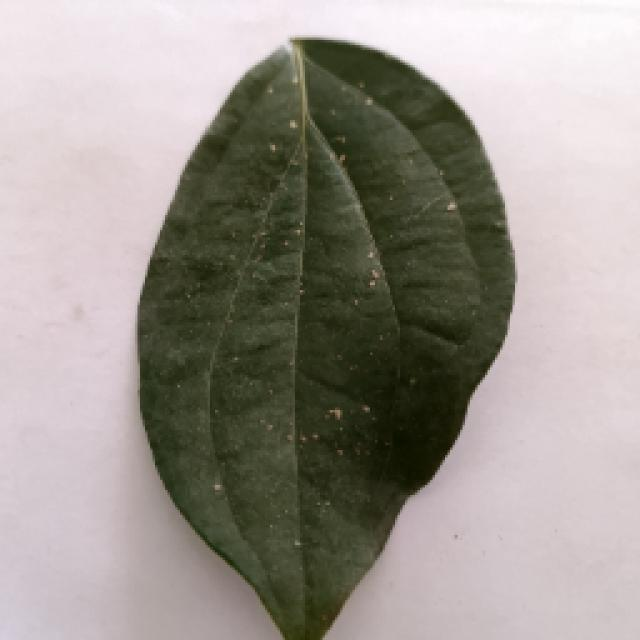pollu-disease: (135, 37, 513, 635)
